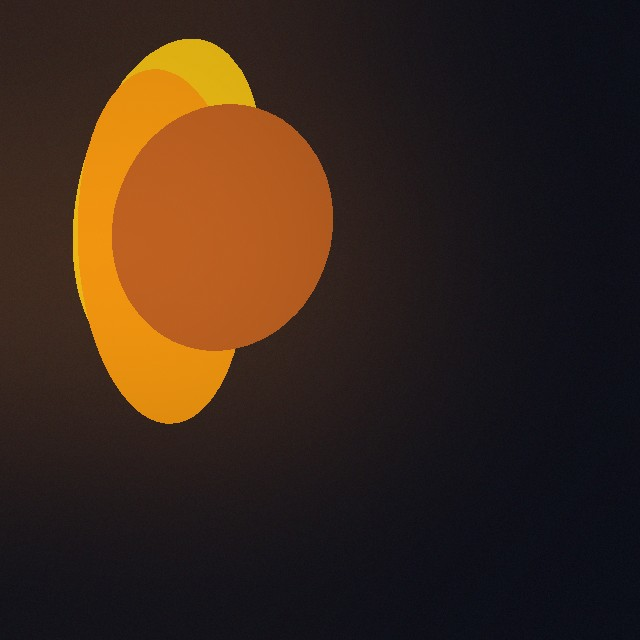fire: (30, 123, 340, 387)
